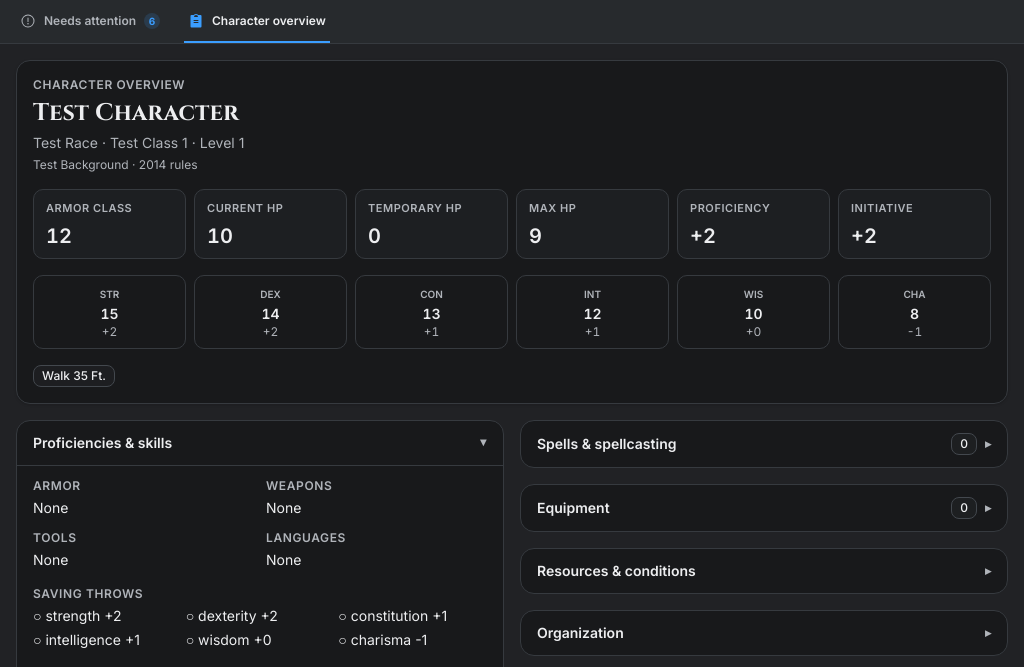
Test: BuildReviewPage › shows unnamed custom organization details under the editor fallback title
The width and height of the screenshot is (1024, 667).
Click the text "Organization": (580, 633) [537,623,624,643]
(page scrolled)
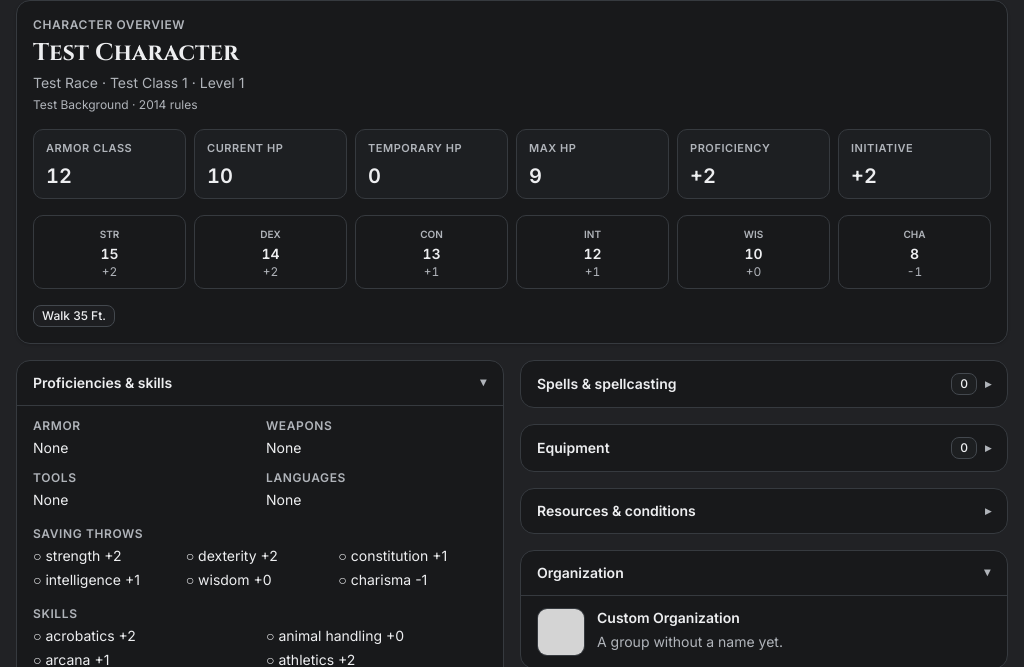
Expected: the heading "Custom Organization" is shown, [597,609,740,626]
Expected: the text "A group without a name yet." is shown, [597,632,783,652]
